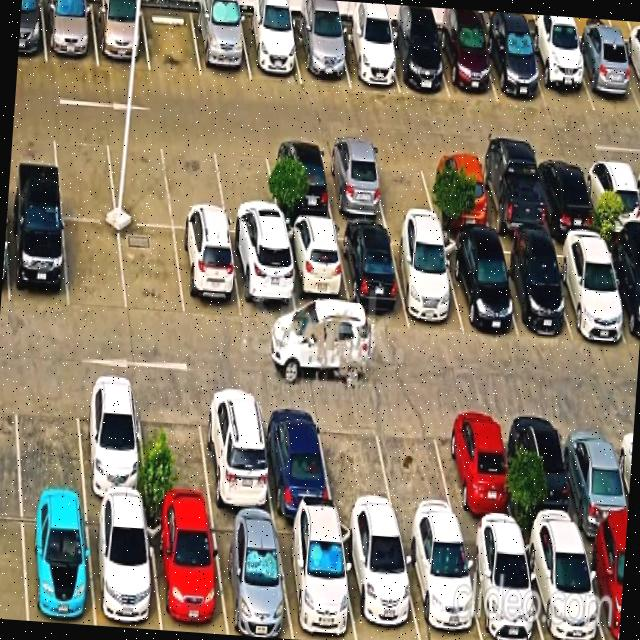empty: (374, 403, 459, 528), (316, 400, 396, 524), (137, 383, 212, 511), (14, 376, 84, 499), (213, 138, 280, 235), (106, 130, 172, 227), (163, 134, 227, 230), (119, 224, 184, 318), (52, 125, 115, 220), (63, 219, 126, 311), (369, 146, 437, 224), (141, 4, 201, 76)
occupied: (210, 513, 292, 639), (438, 405, 517, 532), (147, 509, 227, 634), (275, 518, 356, 640), (198, 388, 273, 515), (339, 522, 419, 640), (86, 503, 160, 630), (258, 393, 333, 517), (75, 377, 147, 505), (508, 408, 581, 534), (399, 529, 481, 640), (21, 501, 94, 625), (461, 529, 542, 640), (521, 532, 603, 640), (559, 412, 628, 536), (549, 237, 628, 341), (388, 230, 463, 333), (441, 236, 517, 336), (493, 238, 570, 336), (282, 223, 352, 325), (336, 226, 408, 325), (174, 229, 241, 319), (229, 234, 296, 323), (7, 209, 67, 308), (475, 153, 547, 235), (423, 150, 491, 230), (265, 142, 333, 221), (570, 38, 640, 114), (320, 144, 387, 222), (526, 36, 594, 111), (533, 156, 598, 233), (482, 29, 546, 107), (581, 535, 626, 640), (582, 157, 640, 235), (436, 27, 497, 101), (385, 28, 449, 97), (239, 13, 301, 84), (191, 8, 250, 81), (337, 24, 399, 92), (91, 1, 149, 70), (603, 239, 640, 347), (291, 21, 349, 86), (41, 0, 97, 66), (619, 43, 640, 108)
